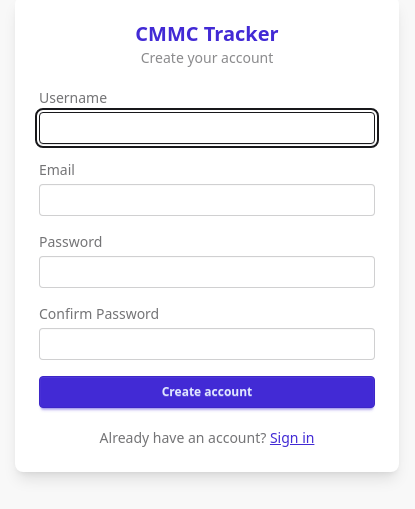
Test case: RegisterPage › validates username minimum length
In the field labelled "Username": (207, 128) [39, 112, 375, 144], type "ab"
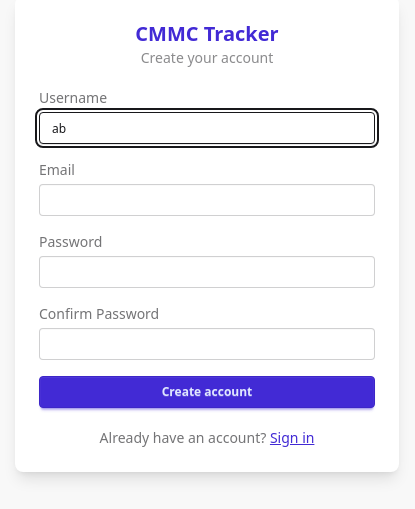
In the field labelled "Email": (207, 200) [39, 184, 375, 216], type "test@example.com"
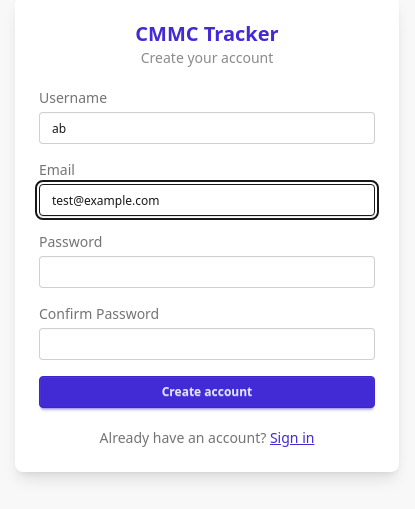
In the password field labelled "Password": (207, 272) [39, 256, 375, 288], type "password123"
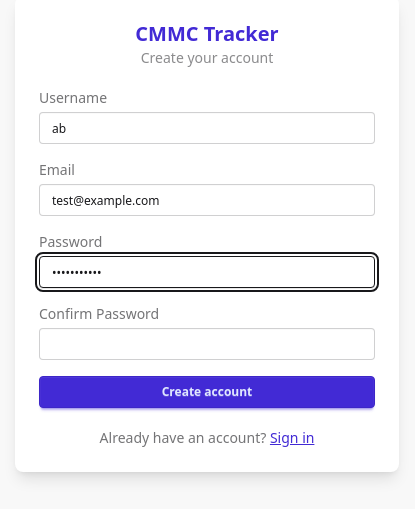
In the password field labelled "Confirm Password": (207, 344) [39, 328, 375, 360], type "password123"
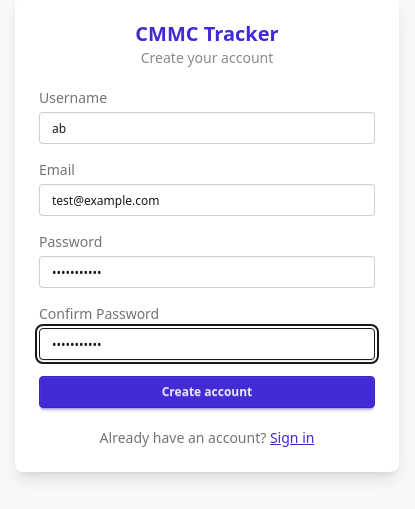
Click the button "Create account": (207, 392) [39, 376, 375, 408]
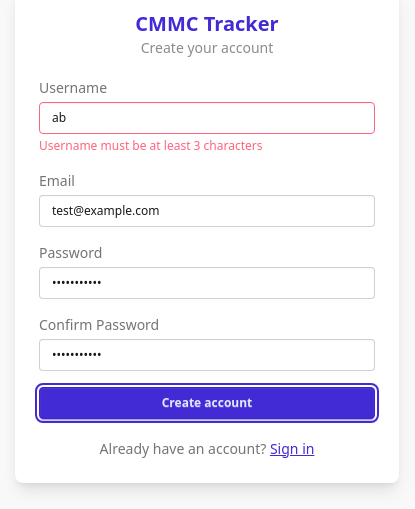
Check: the text "Username must be at least 3 characters" is shown, box [39, 136, 262, 154]
